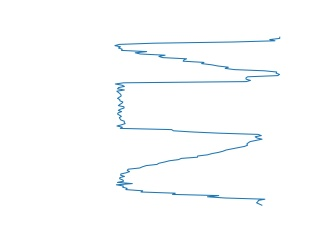distributaryChannelFill: (112, 72, 268, 140)
mouthBar: (110, 32, 283, 76)
underwaterDistributaryChannel: (113, 138, 268, 209)
